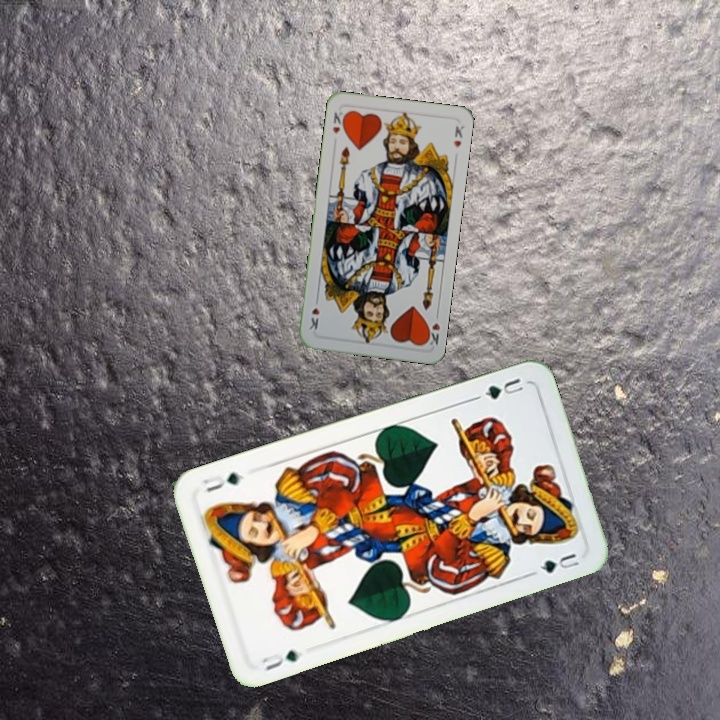GU: (480, 374, 526, 402), (257, 646, 302, 673)
HK: (422, 308, 443, 347), (328, 107, 349, 136)
